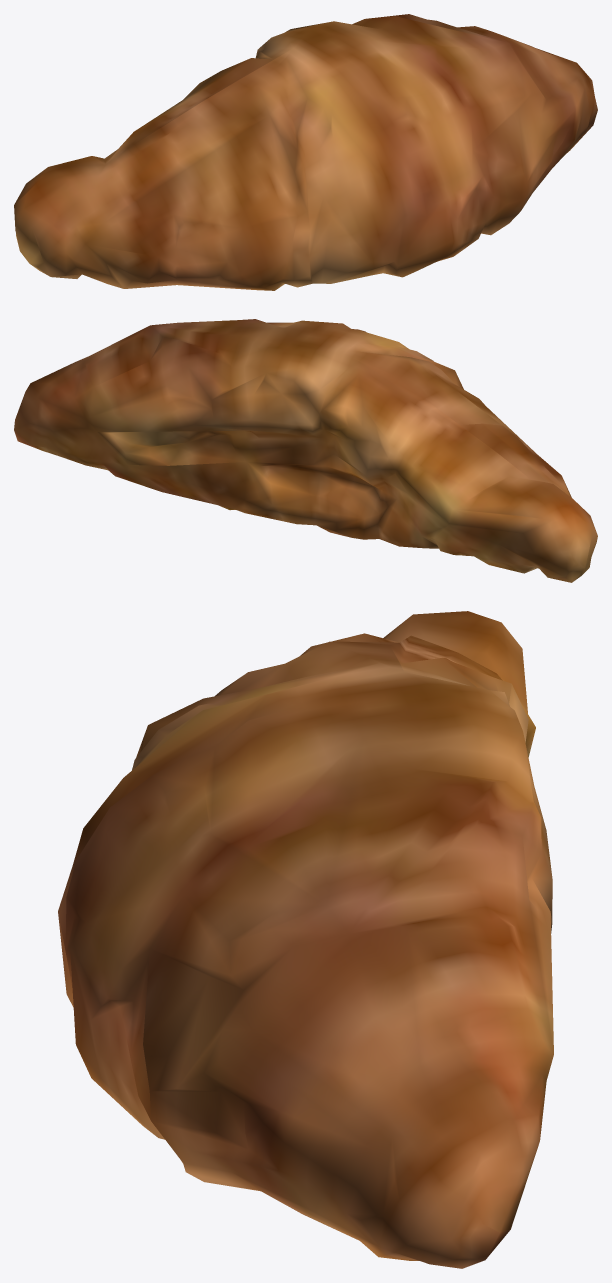
3 renders of one model, top to bottom at view 1: azimuth 30°, elevation 25°; view 2: azimuth 150°, elevation 25°; view 3: azimuth 270°, elevation 25°, orthographic. The views are drawn at different scales.
Visible parts, largest first — view 1: croissant; view 2: croissant; view 3: croissant.
Part boxes in pixels (x1,y1,x2,y2): croissant: (14, 14, 597, 290); croissant: (14, 319, 597, 582); croissant: (58, 611, 553, 1268).
Size of the model in its own units: 0.2 by 0.0617 by 0.0752.
Materials: 1 (1 with a texture image).
